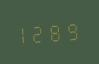eight: (48, 20, 62, 43)
nine: (63, 19, 77, 42)
one: (18, 22, 32, 45)
two: (33, 21, 47, 44)
